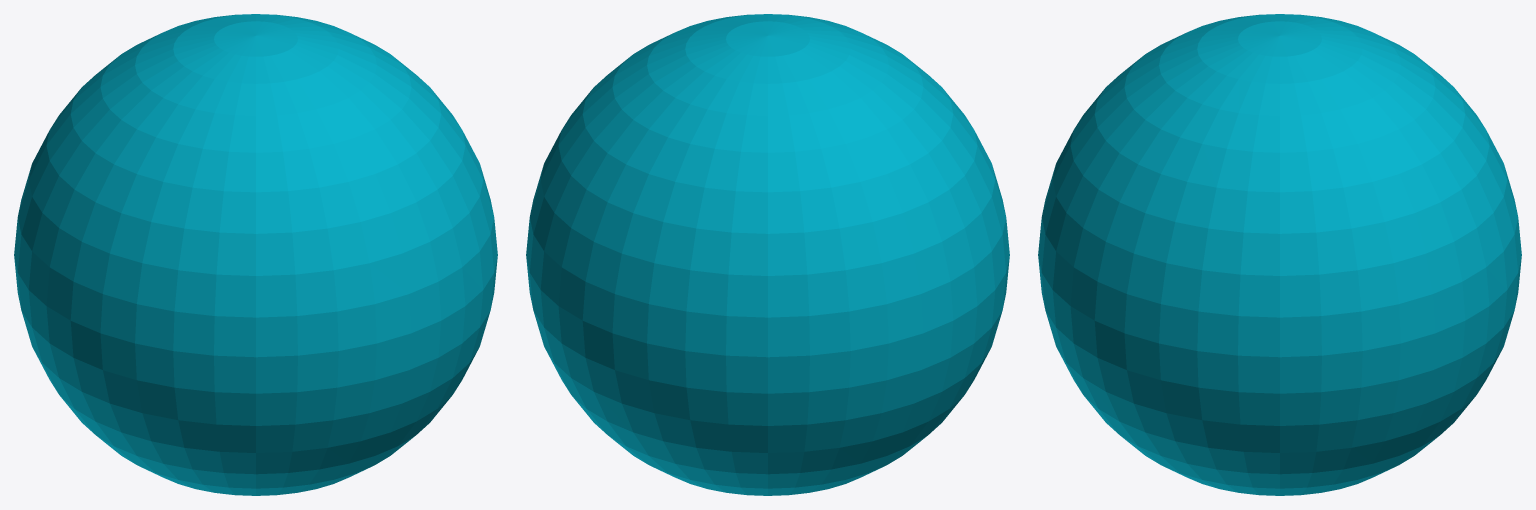
The model's file is Brilliant Crift-Duup.glb.
3 renders of one model, left to right at view 1: azimuth 30°, elevation 25°; view 2: azimuth 150°, elevation 25°; view 3: azimuth 270°, elevation 25°, orthographic.
Parts seen in each view (by area): view 1: Mesh_Mesh_head_geo.001_lambert2SG.001; view 2: Mesh_Mesh_head_geo.001_lambert2SG.001; view 3: Mesh_Mesh_head_geo.001_lambert2SG.001.
Part boxes in pixels (x1,y1,x2,y2): Mesh_Mesh_head_geo.001_lambert2SG.001: (14, 14, 497, 495); Mesh_Mesh_head_geo.001_lambert2SG.001: (526, 14, 1009, 495); Mesh_Mesh_head_geo.001_lambert2SG.001: (1038, 14, 1521, 495).
Size of the model in its own units: 20 by 20 by 20.
